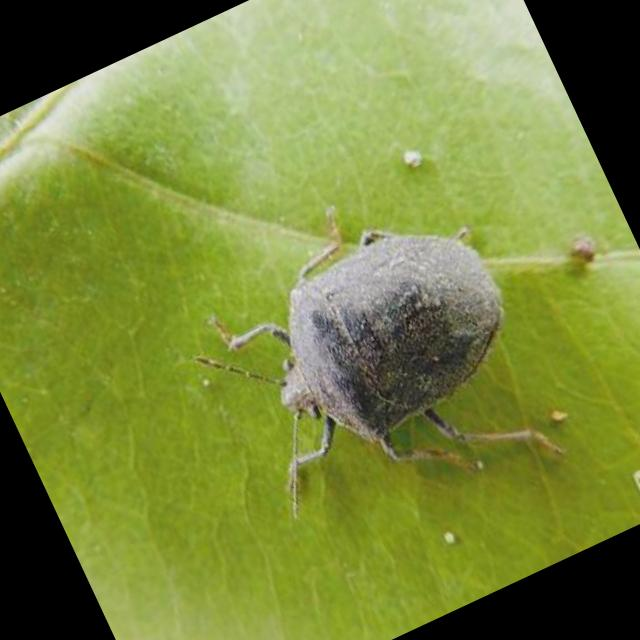rice-bug: (188, 169, 562, 535)
